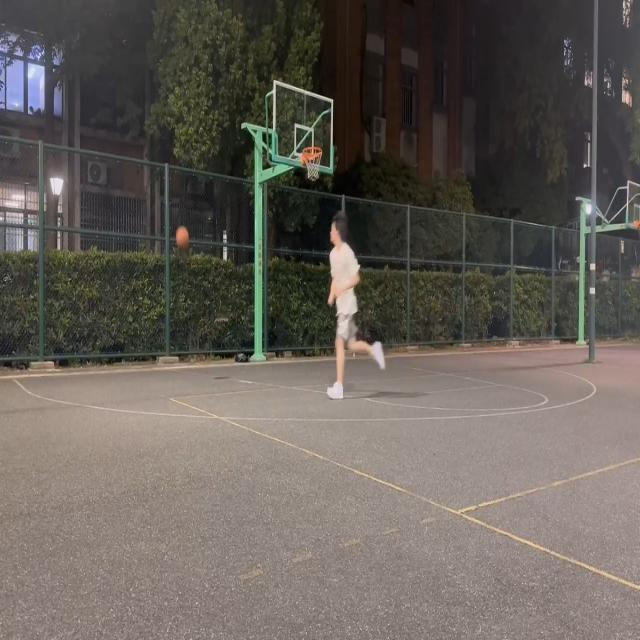basketball: (302, 146, 322, 181)
rim: (176, 226, 188, 248)
